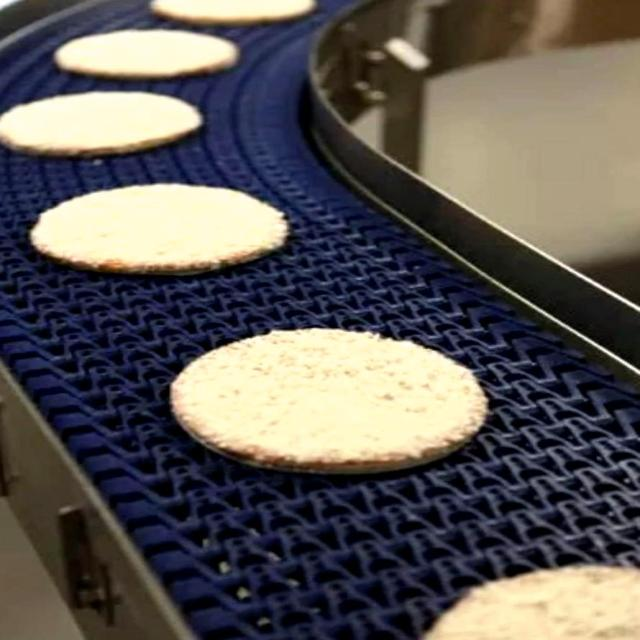food: (167, 326, 490, 476), (28, 181, 292, 277), (0, 75, 228, 178)
